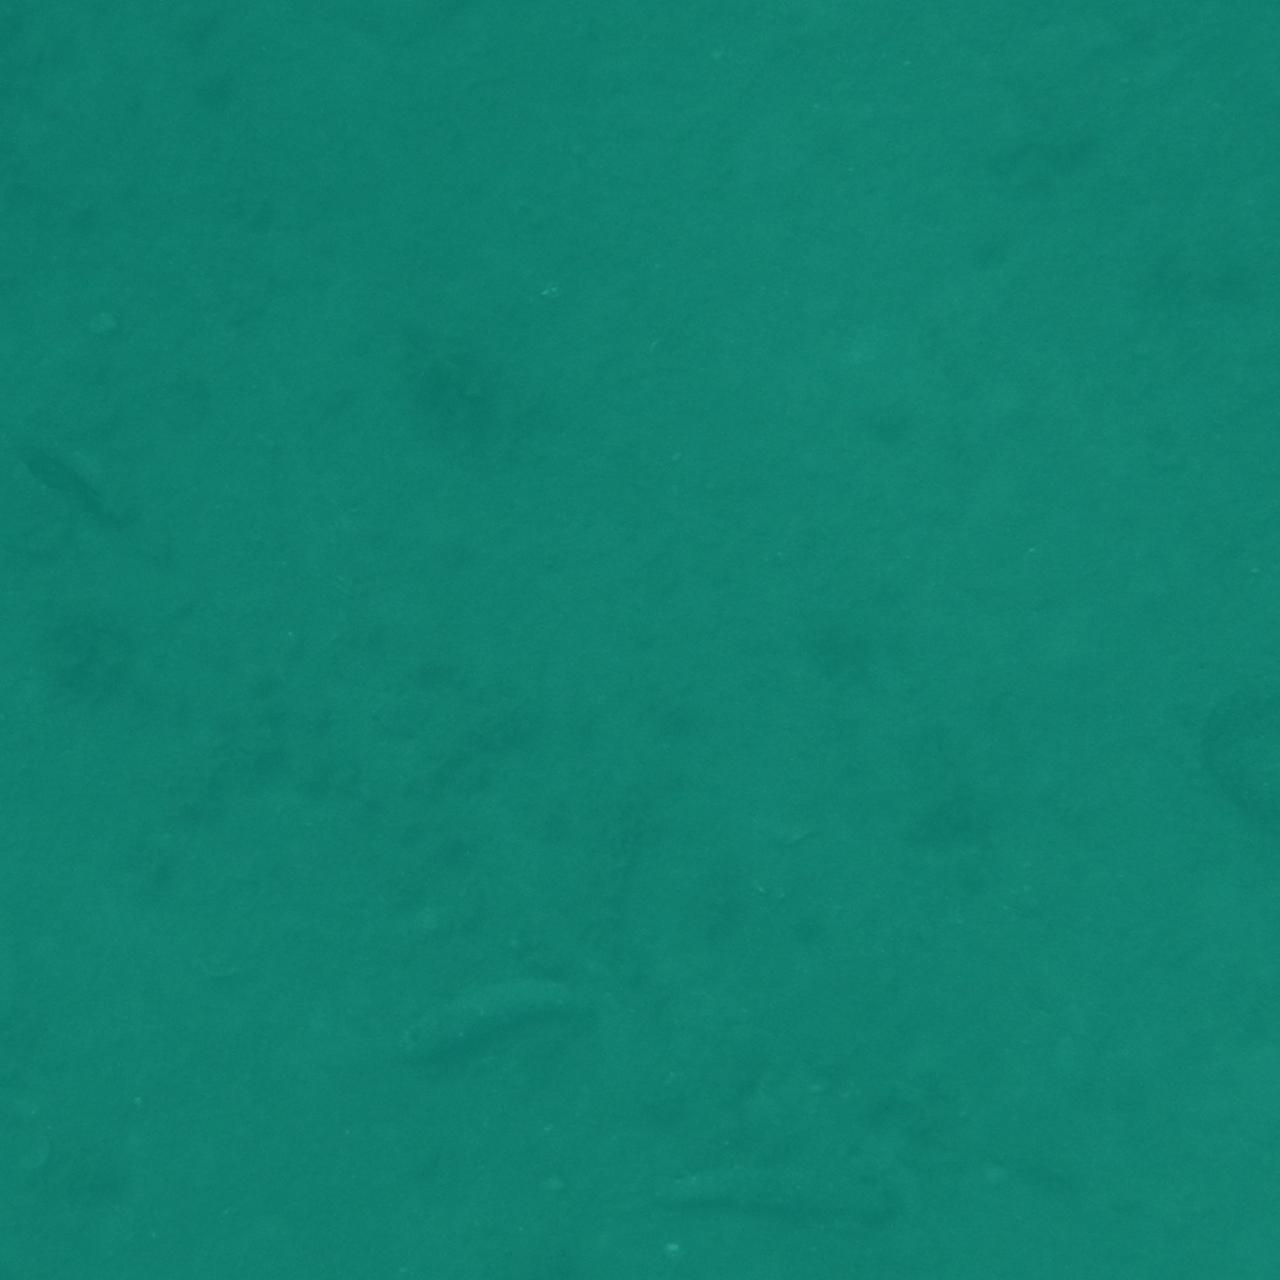Holothuria tubulosa: (354, 961, 604, 1089), (621, 1129, 922, 1232), (1184, 23, 1280, 243), (1185, 661, 1280, 869), (1129, 1021, 1280, 1143), (319, 1183, 508, 1280), (0, 953, 73, 1179), (0, 69, 132, 189), (2, 436, 134, 552), (1068, 0, 1194, 116), (102, 1177, 243, 1280), (1171, 230, 1280, 362), (0, 622, 89, 767), (0, 79, 82, 223), (0, 1186, 123, 1280), (0, 0, 151, 75), (0, 1185, 96, 1280), (0, 0, 118, 75), (1175, 1198, 1280, 1280), (0, 1216, 118, 1280), (0, 0, 95, 74), (0, 983, 75, 1075), (1214, 0, 1280, 102), (0, 1185, 61, 1280), (1210, 0, 1280, 46), (1178, 1251, 1280, 1280)
Rifiuto: (0, 1179, 128, 1280)
